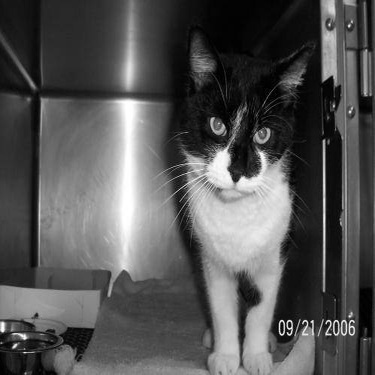cat: (160, 13, 326, 371)
